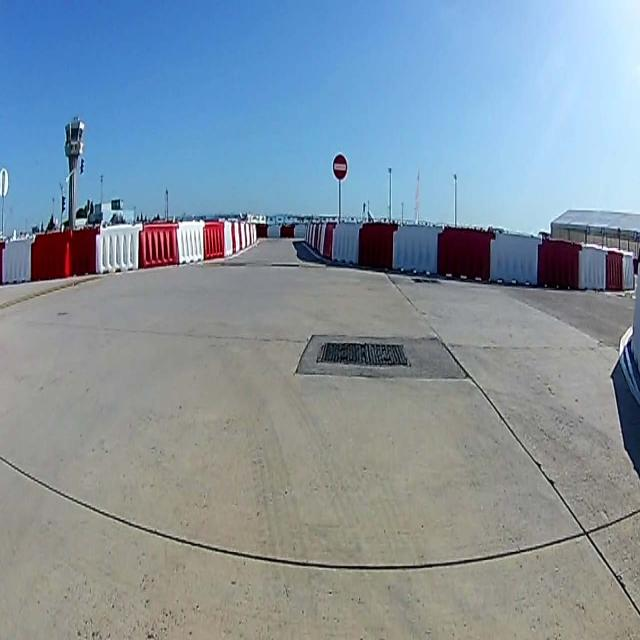girisyok: (332, 154, 348, 180)
